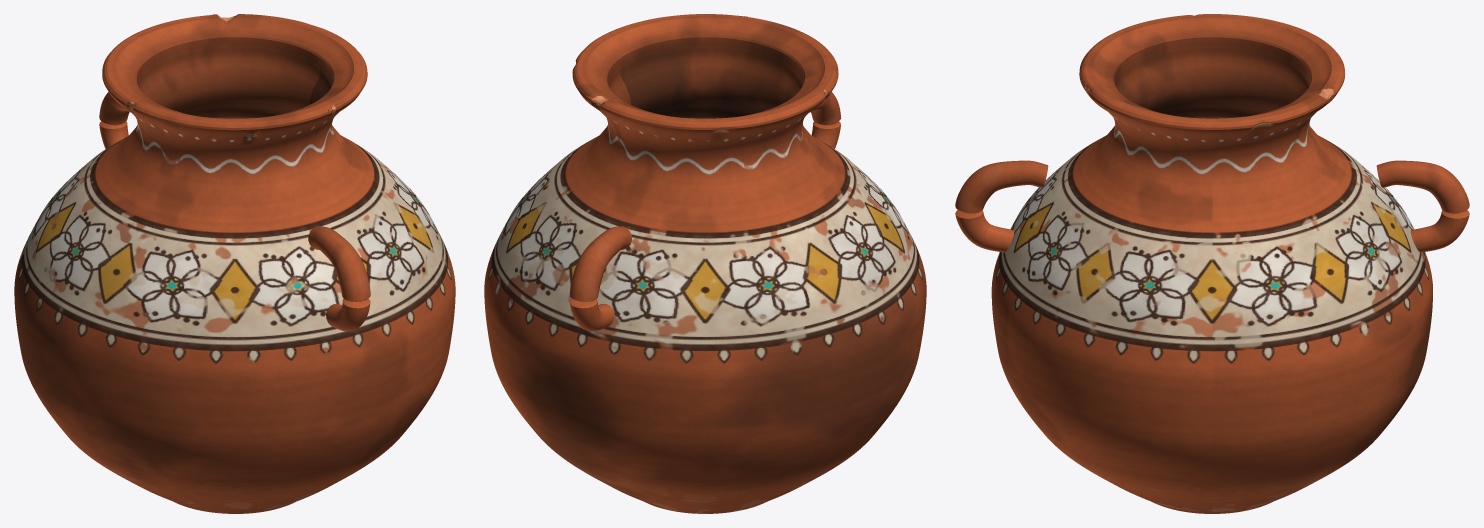
The model's file is w3_court_clay_olla.glb.
The picture shows the model from 3 angles, left to right: view 1: azimuth 30°, elevation 25°; view 2: azimuth 150°, elevation 25°; view 3: azimuth 270°, elevation 25°; orthographic projection.
Parts seen in each view (by area): view 1: w3_court_clay_olla; view 2: w3_court_clay_olla; view 3: w3_court_clay_olla.
Boxes of the visible parts, left/top/right/bottom form: w3_court_clay_olla: left=14, top=14, right=455, bottom=513; w3_court_clay_olla: left=484, top=14, right=926, bottom=513; w3_court_clay_olla: left=955, top=14, right=1469, bottom=513.
Bounding box in the file's own units: 0.4367 × 0.452 × 0.5079.
Materials: 1 (1 with a texture image).
